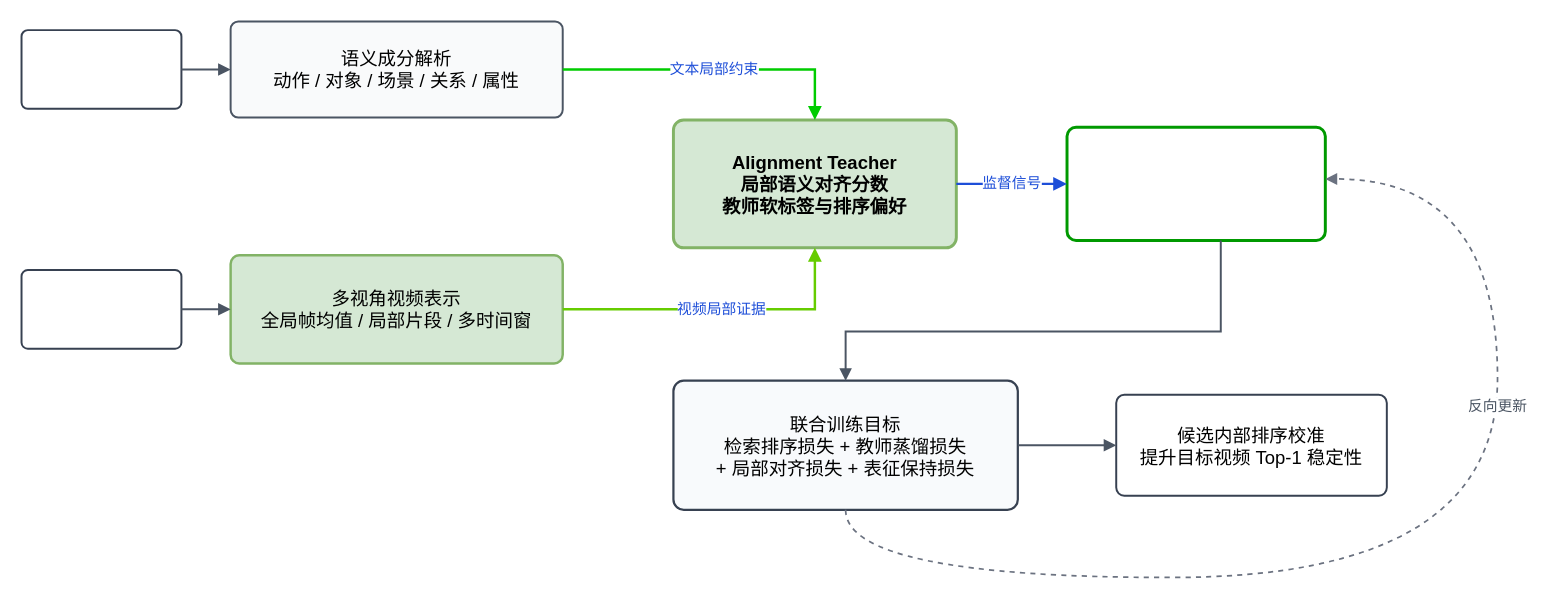
Image size: 1549x600. Some labels were removed from this diagram. Here are the shapes that lost their labels. From the top down, the centre of each, then its label:
At pixel 101 69: "训练查询 文本描述".
At pixel 1195 183: "学生检索模型 残差适配器 / 表征校准".
At pixel 101 308: "候选视频片段".
